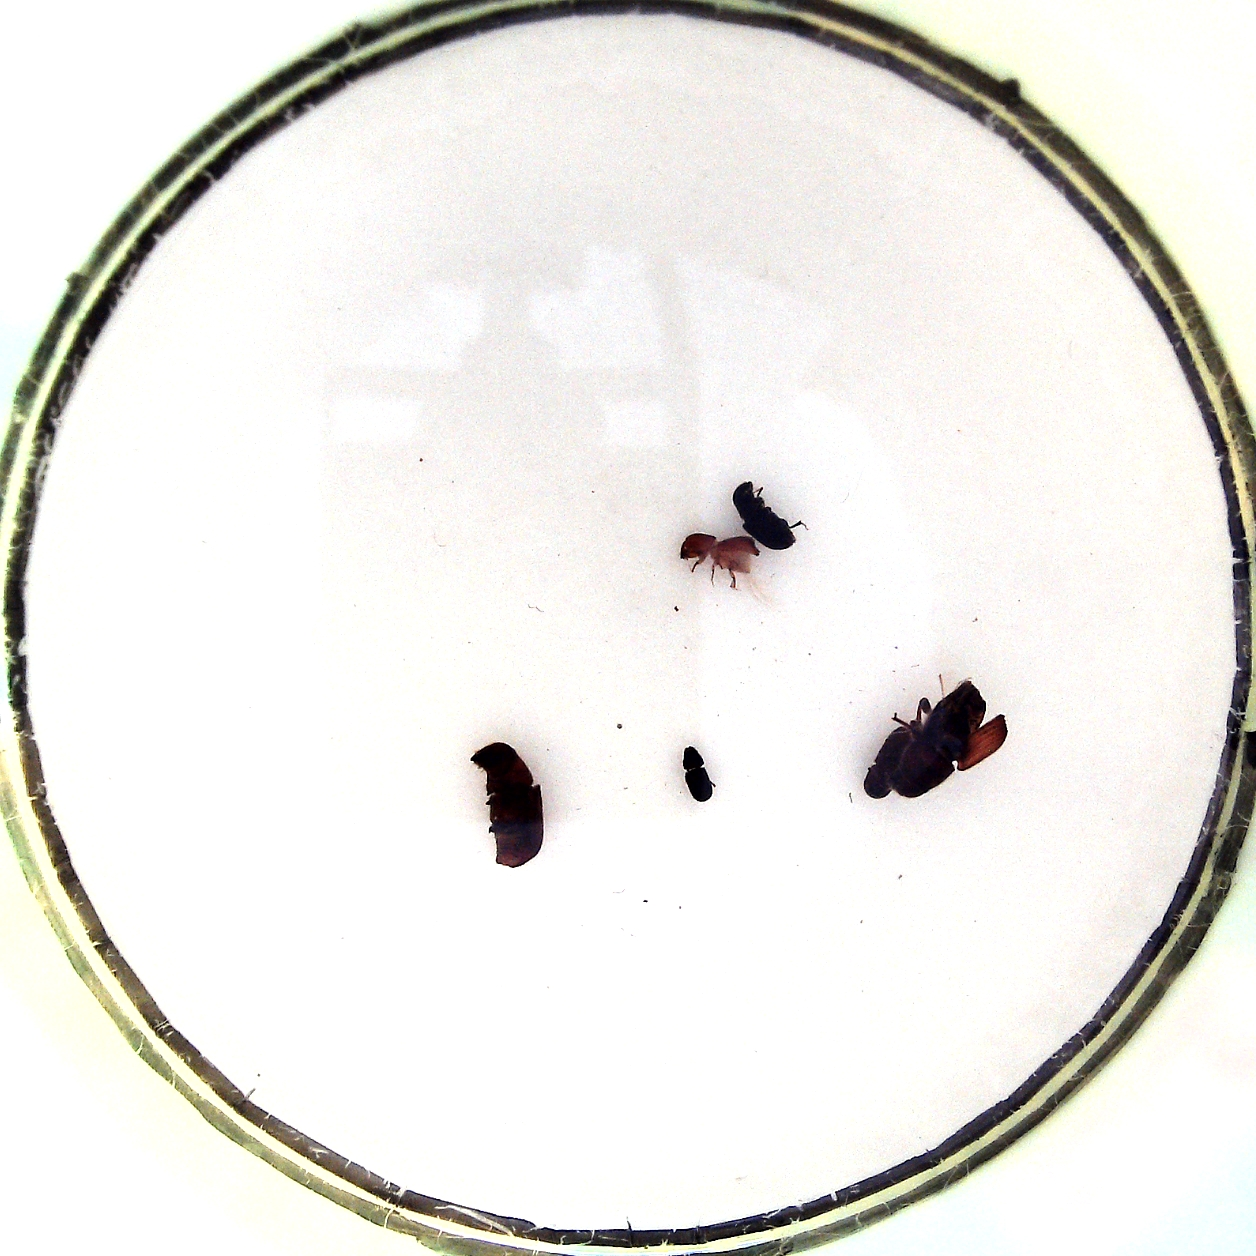Leconte: (891, 679, 1009, 799), (466, 738, 546, 870)
acuminatus: (676, 527, 758, 589)
armandi: (730, 476, 804, 550)
coleoptera: (679, 743, 718, 805)
